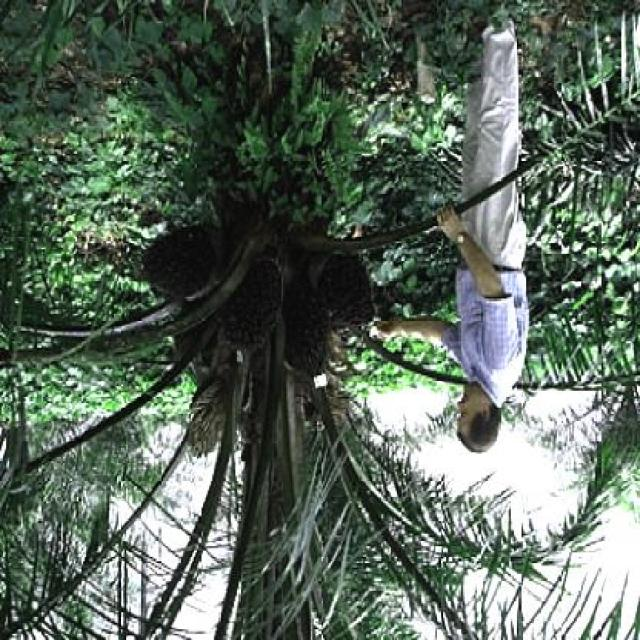palm-oil: (281, 275, 330, 386), (147, 218, 210, 299), (231, 260, 273, 358), (324, 249, 374, 327)
